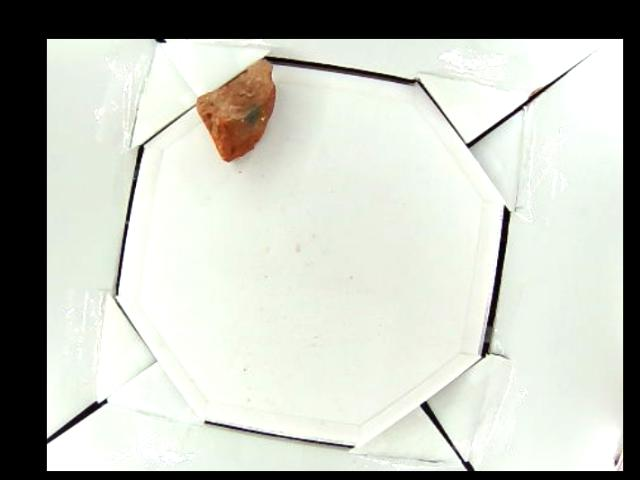Brisk: (195, 59, 276, 162)
